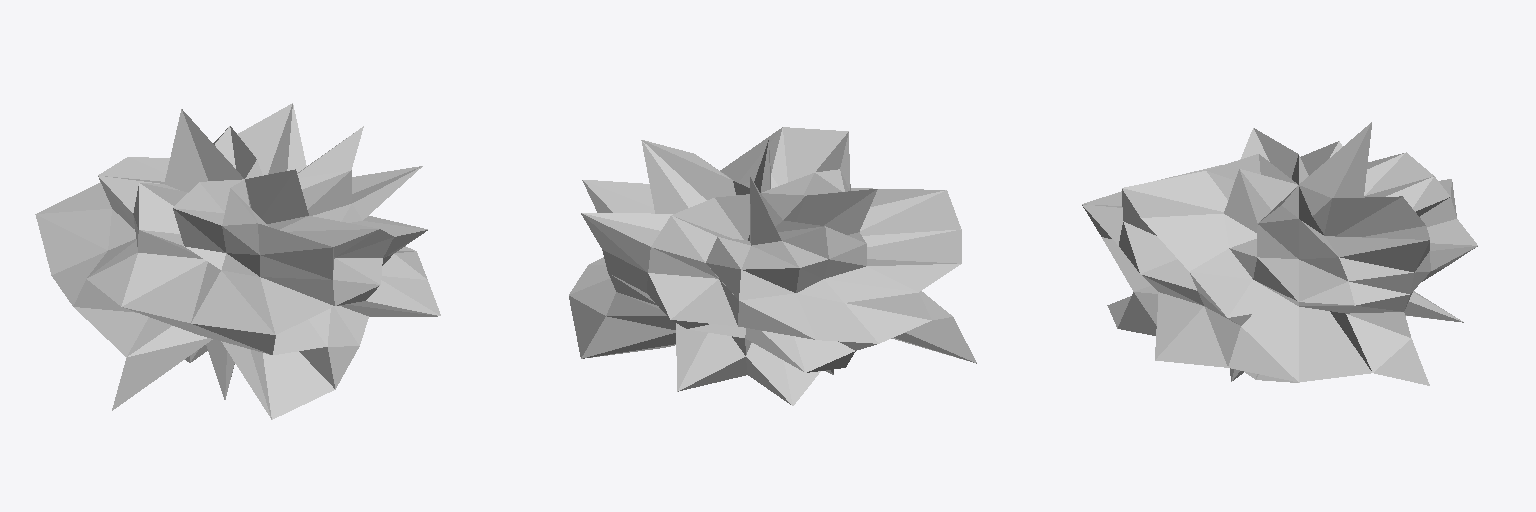
The model's file is rock10.Obj.
3 renders of one model, left to right at view 1: azimuth 30°, elevation 25°; view 2: azimuth 150°, elevation 25°; view 3: azimuth 270°, elevation 25°, orthographic.
Parts seen in each view (by area): view 1: default; view 2: default; view 3: default.
Part boxes in pixels (x1,y1,x2,y2): default: (35, 103, 440, 419); default: (569, 127, 976, 405); default: (1082, 122, 1477, 385).
Size of the model in its own units: 1.27 by 0.8301 by 1.24.